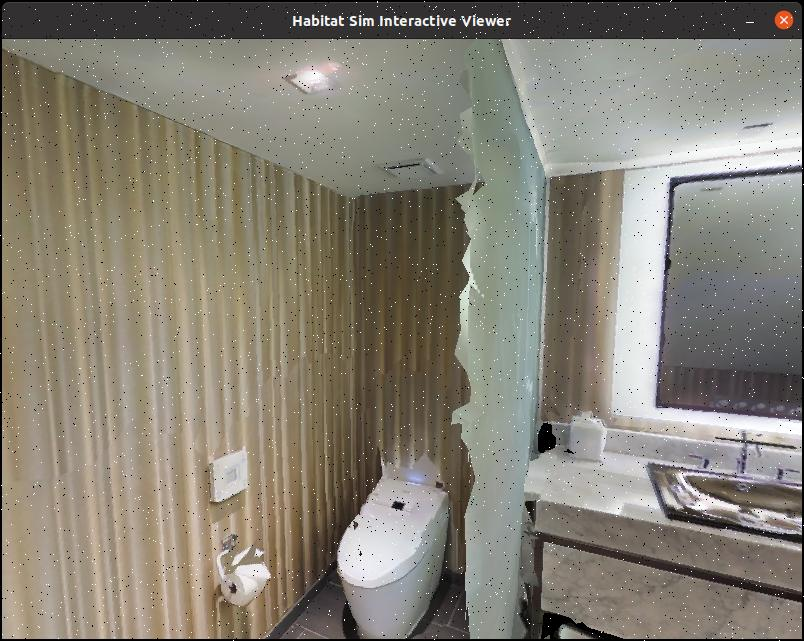sink: (620, 416, 804, 557)
toilet: (307, 422, 496, 641)
